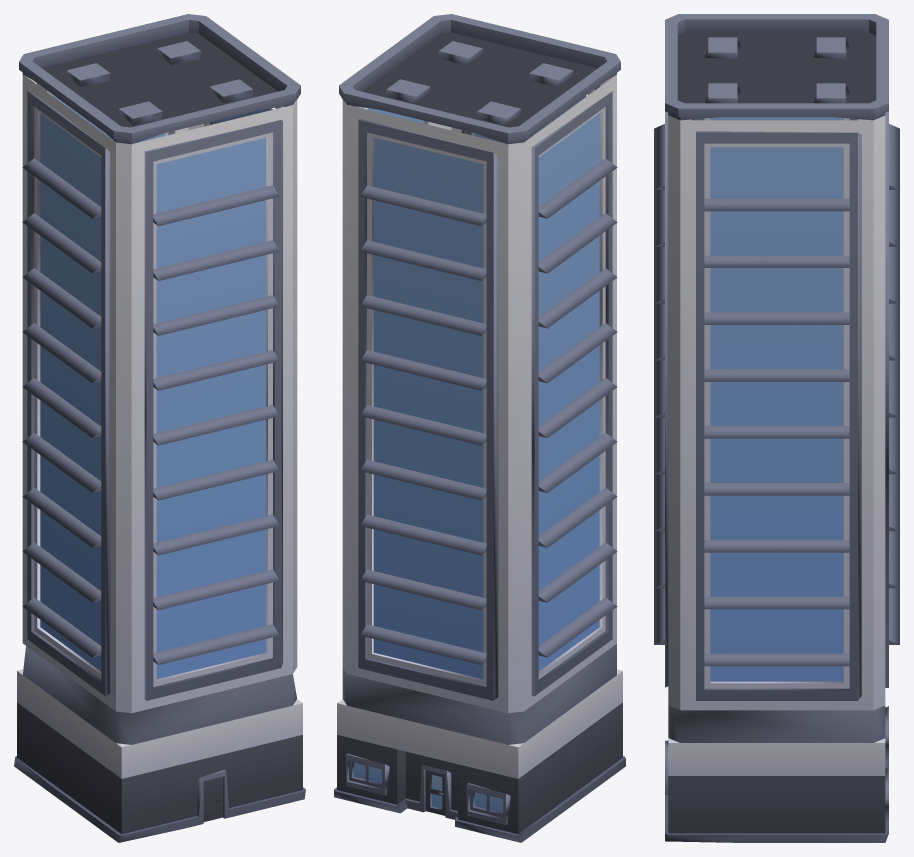
The model's file is 090_city-kit-commercial_building-skyscraper-b_card.glb.
3 renders of one model, left to right at view 1: azimuth 30°, elevation 25°; view 2: azimuth 150°, elevation 25°; view 3: azimuth 270°, elevation 25°, orthographic. The views are drawn at different scales.
Parts seen in each view (by area): view 1: building-skyscraper-b; view 2: building-skyscraper-b; view 3: building-skyscraper-b.
Part boxes in pixels (x1,y1,x2,y2): building-skyscraper-b: (14, 14, 305, 842); building-skyscraper-b: (334, 14, 625, 842); building-skyscraper-b: (654, 14, 899, 842).
Size of the model in its own units: 1.36 by 4.48 by 1.36.
1 material, 1 textured.
